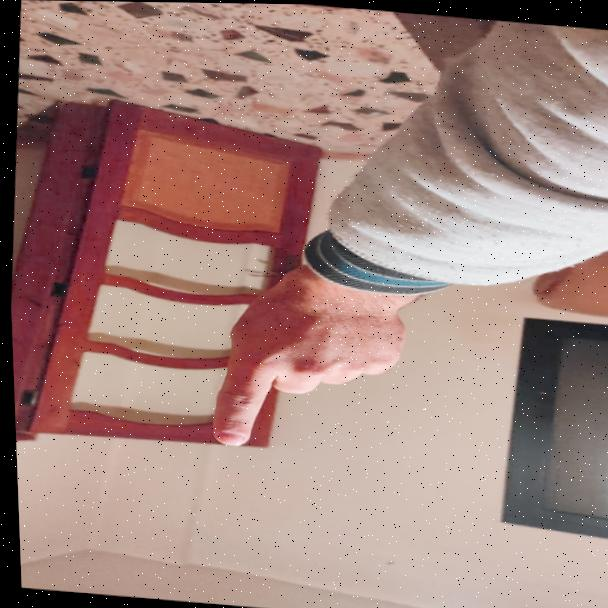one: (185, 266, 429, 463)
